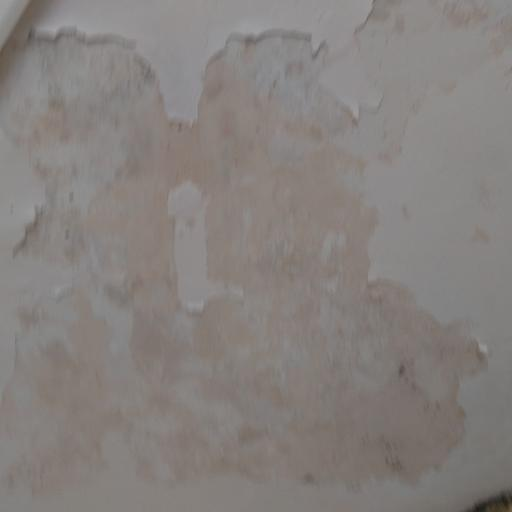peeling: (24, 7, 512, 512)
